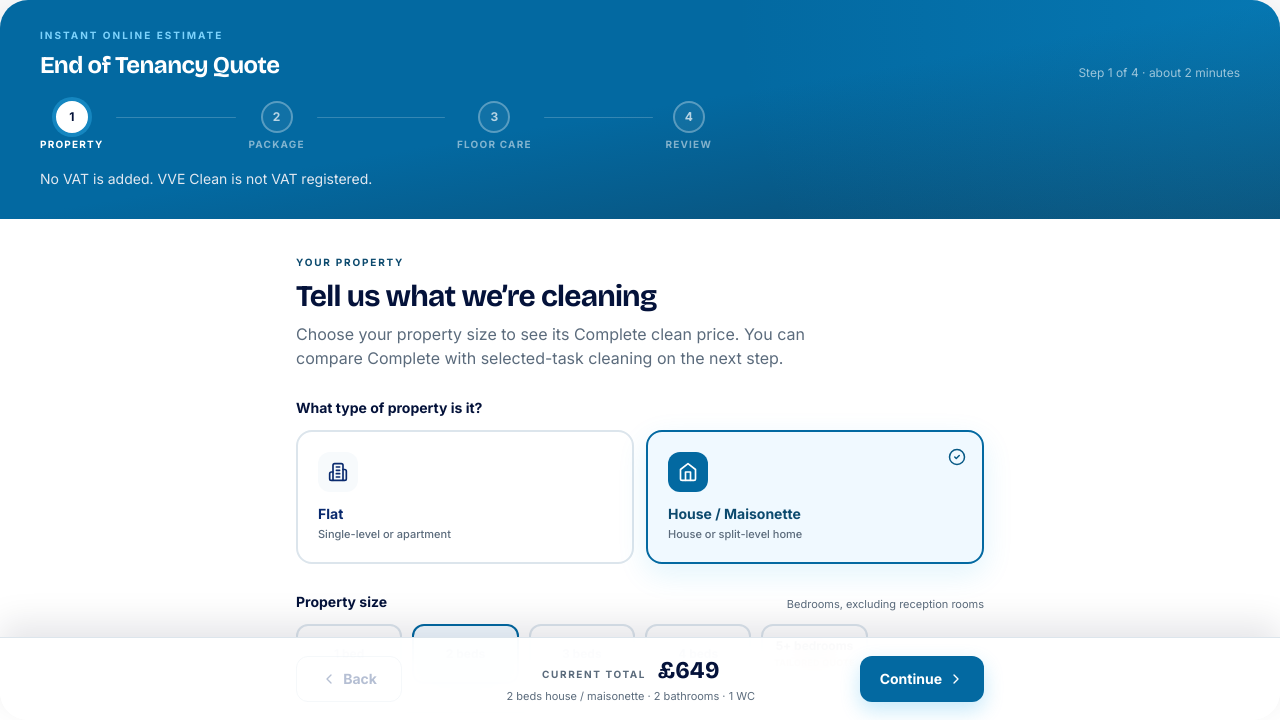
Scenario: manual quote contact messages › gives rug enquiries their own message with the selected details and an equivalent email option
Step 1. Click the button "Continue" → (922,679), box x1=860 y1=656 x2=984 y2=702
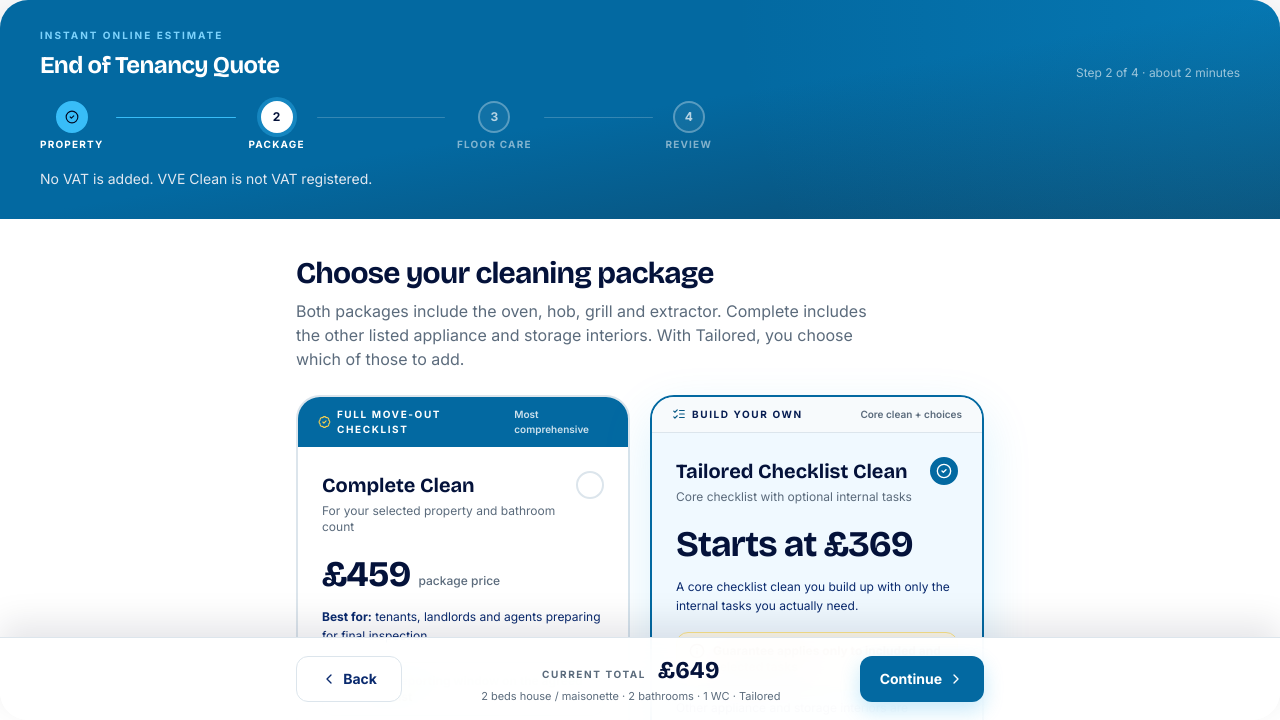
Step 2. Click the button "Continue" → (922,679), box x1=860 y1=656 x2=984 y2=702
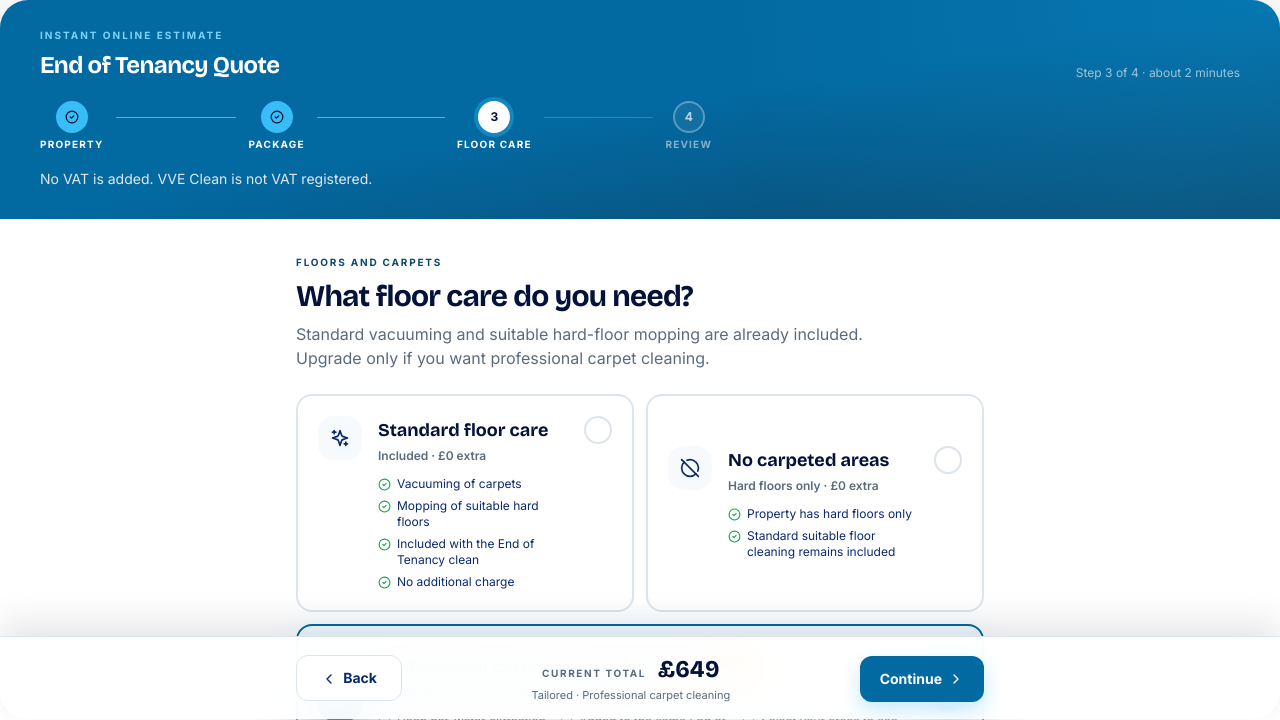
Step 3. Click the button "Continue" → (922,679), box x1=860 y1=656 x2=984 y2=702
(page scrolled)
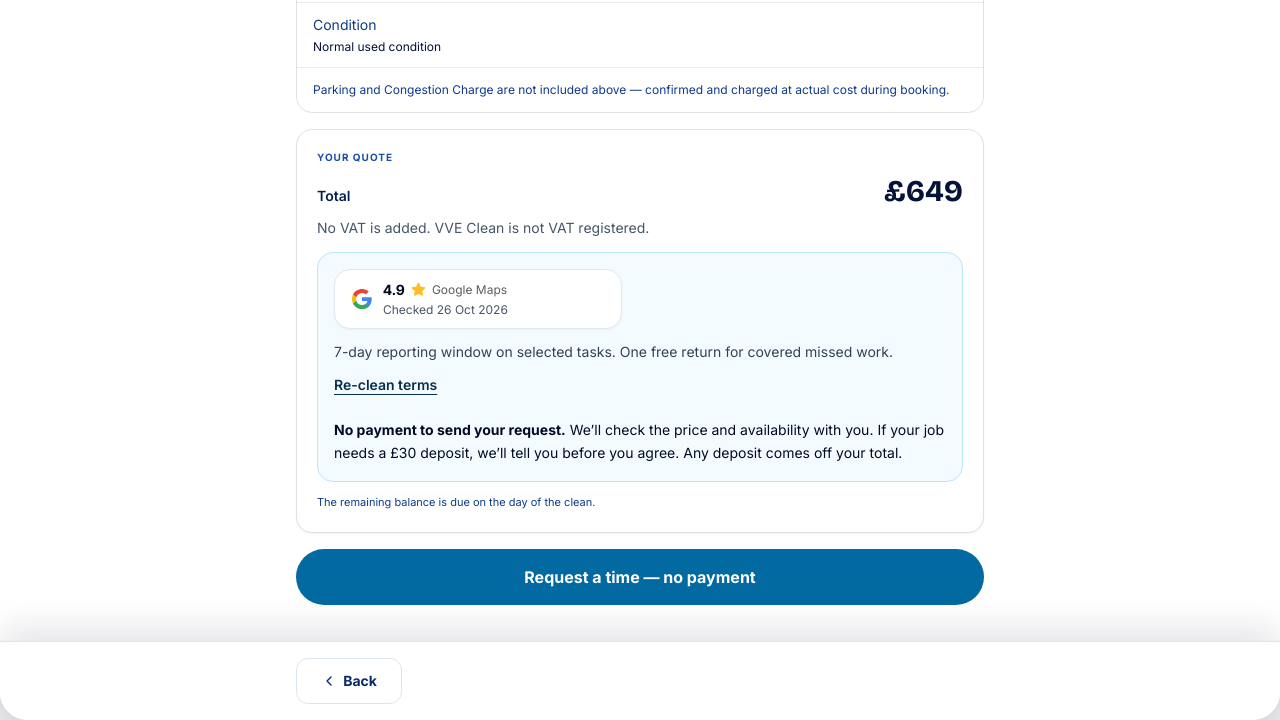
Check: the button "Request a time — no payment" is shown, box x1=296 y1=549 x2=984 y2=605
